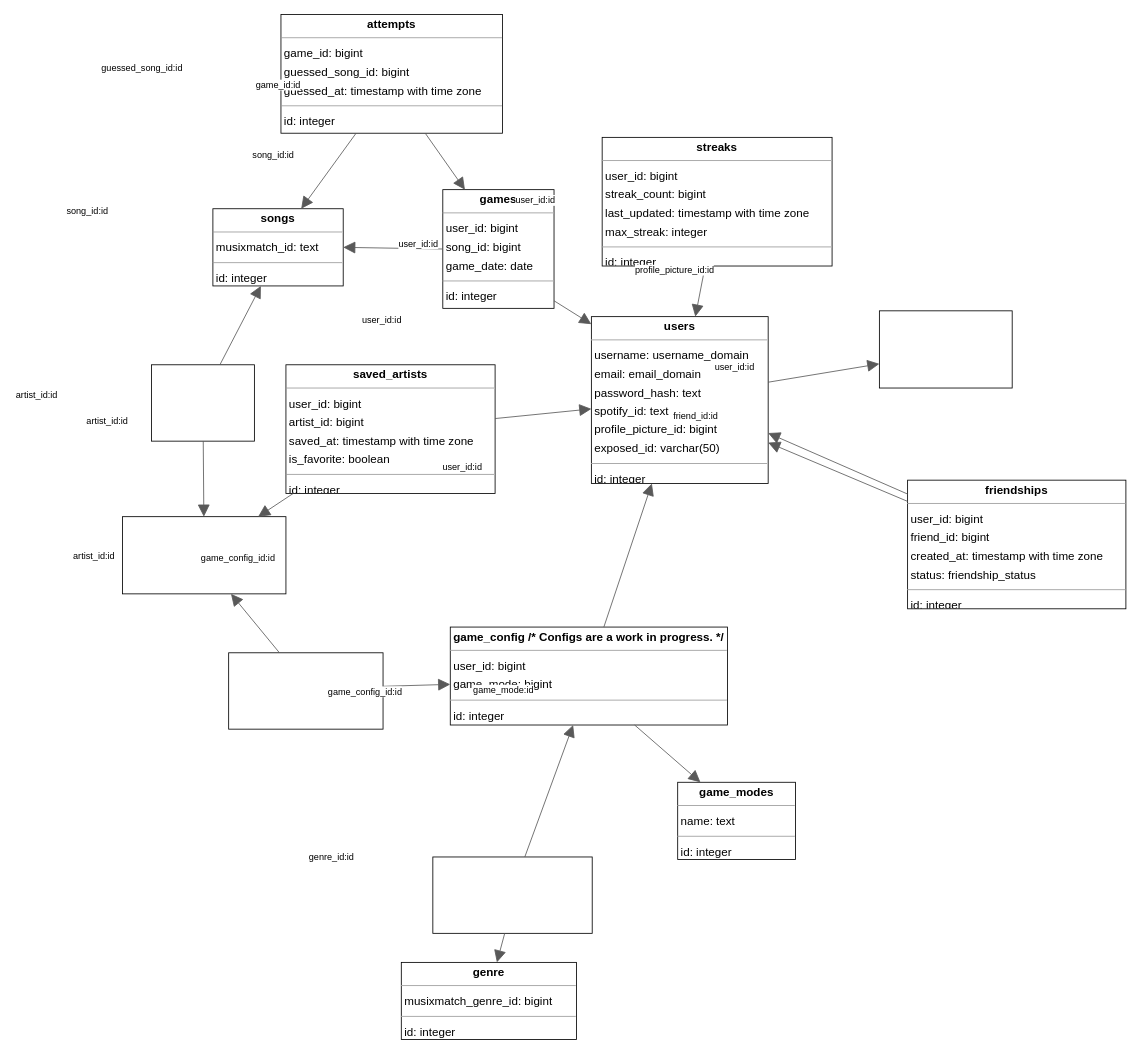
Some shapes in this 1140 by 1054 pixel diagram are drawn without their labels. The shapes that lost their labels are listed below. From the top down, each one's box as (x1, y1, x2, y2) in pixels, then its label:
(879, 310, 1012, 388): profile_pictures image_url: text id: integer
(151, 364, 254, 441): artist_song song_id: bigint artist_id: bigint
(122, 516, 286, 594): artists musixmatch_artist_id: text id: integer
(228, 652, 383, 729): artist_game_config game_config_id: bigint artist_id: bigint
(432, 856, 592, 933): genre_game_config game_config_id: bigint genre_id: bigint
